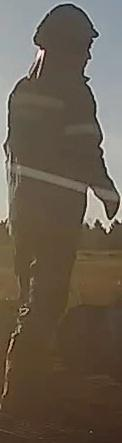gloves: (93, 171, 122, 221)
vest: (2, 74, 104, 238)
